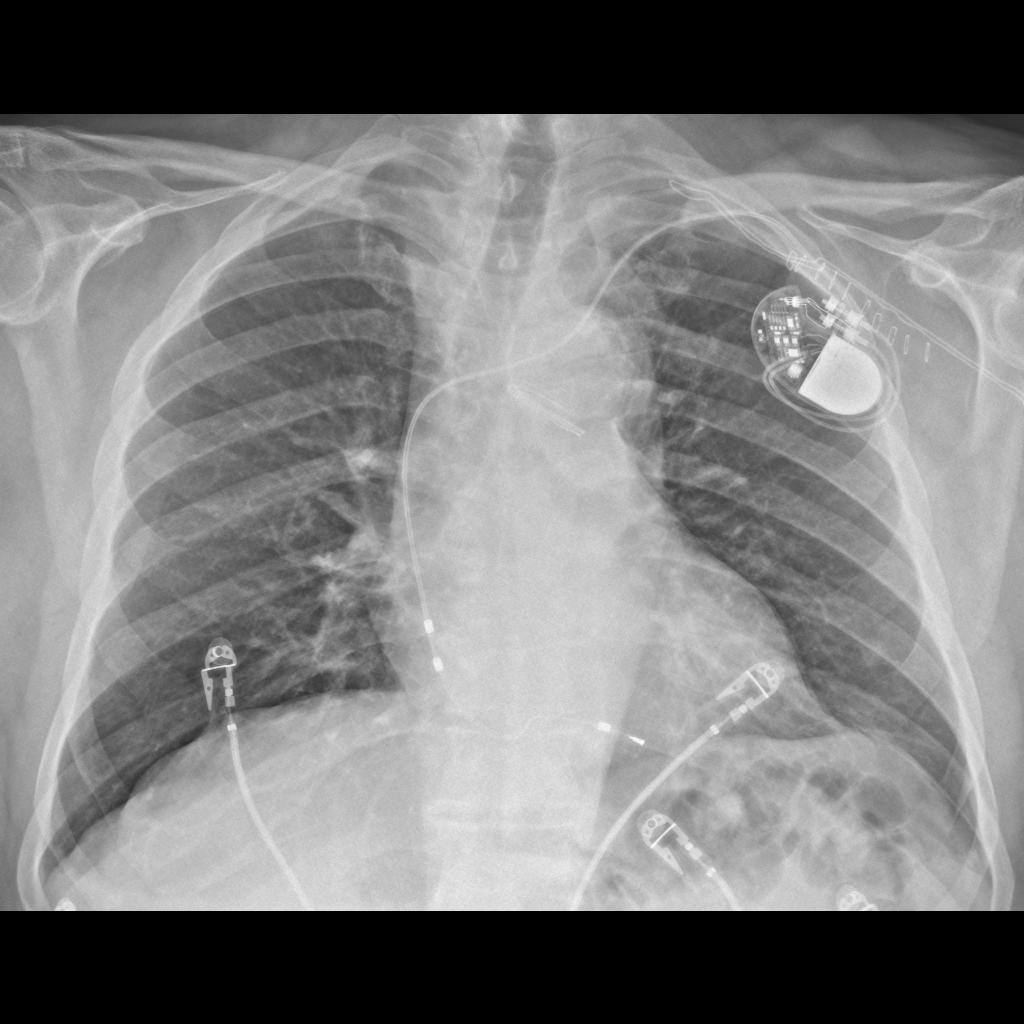Nodule: (859, 637, 894, 678)
